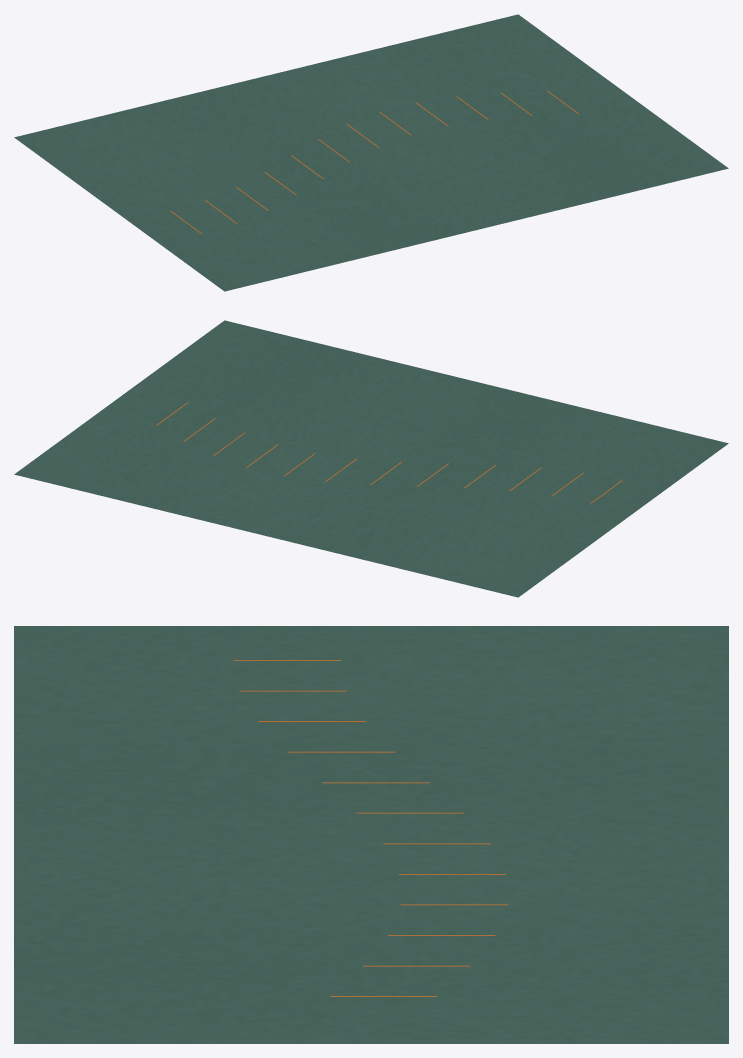
File: 277_L120_L12_LayerReference.obj
3 renders of one model, top to bottom at view 1: azimuth 30°, elevation 25°; view 2: azimuth 150°, elevation 25°; view 3: azimuth 270°, elevation 25°, orthographic. The views are drawn at different scales.
Parts seen in each view (by area): view 1: 277_L120_L12_LayerReference; view 2: 277_L120_L12_LayerReference; view 3: 277_L120_L12_LayerReference.
Part boxes in pixels (x1,y1,x2,y2): 277_L120_L12_LayerReference: [14, 14, 728, 291]; 277_L120_L12_LayerReference: [14, 320, 728, 597]; 277_L120_L12_LayerReference: [14, 626, 728, 1043].
Size of the model in its own units: 0.506 by 0.000148 by 0.366.
2 materials, 2 textured.
